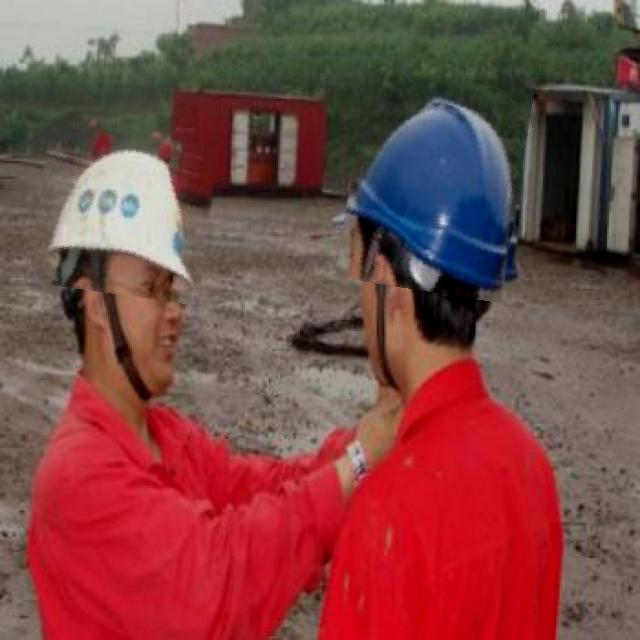helmet: (343, 74, 527, 298), (33, 127, 214, 300)
